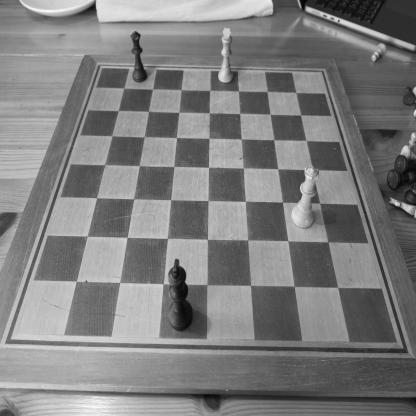black-king: (168, 258, 193, 332)
black-queen: (130, 30, 147, 83)
white-king: (217, 26, 234, 84)
white-knight: (388, 196, 415, 220)
white-pawn: (370, 42, 387, 62), (408, 131, 415, 153)
white-queen: (290, 165, 320, 229)
